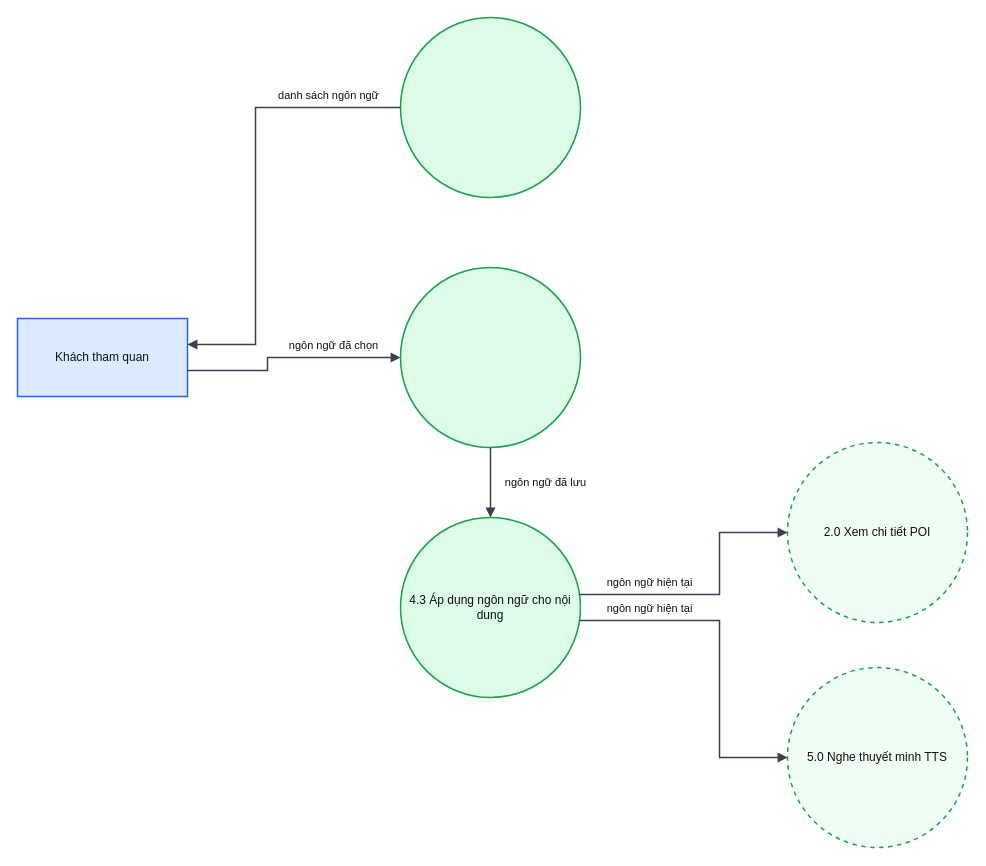
The diagram is 986 pixels wide and 866 high, and some of its shapes have lost their labels. Each missing label, with the box of its shape:
4.1 Hiển thị ngôn ngữ hỗ trợ: (399, 16, 581, 198)
4.2 Lưu ngôn ngữ đã chọn: (399, 266, 581, 448)
